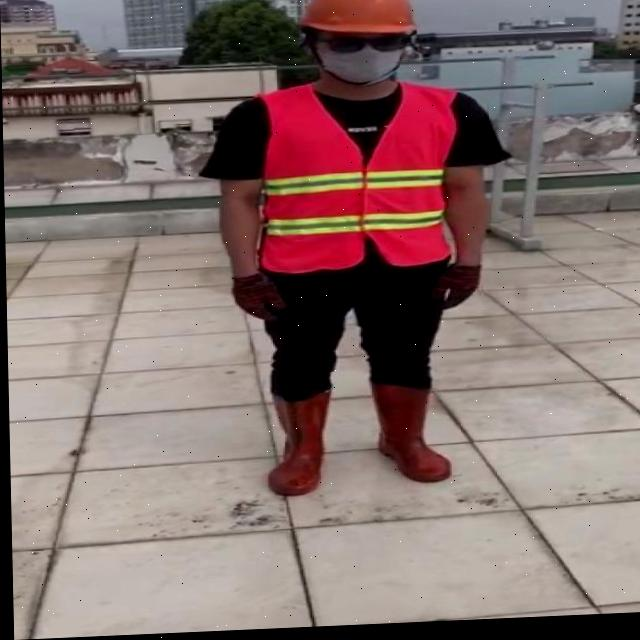Gloves: (230, 273, 287, 325), (428, 266, 482, 314)
Helmet: (298, 0, 419, 44)
Safety-Boot: (370, 380, 451, 488), (264, 389, 332, 499)
Safety-Vest: (253, 80, 462, 278)
